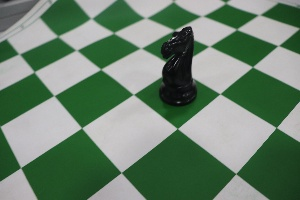black_horse: (148, 13, 206, 114)
